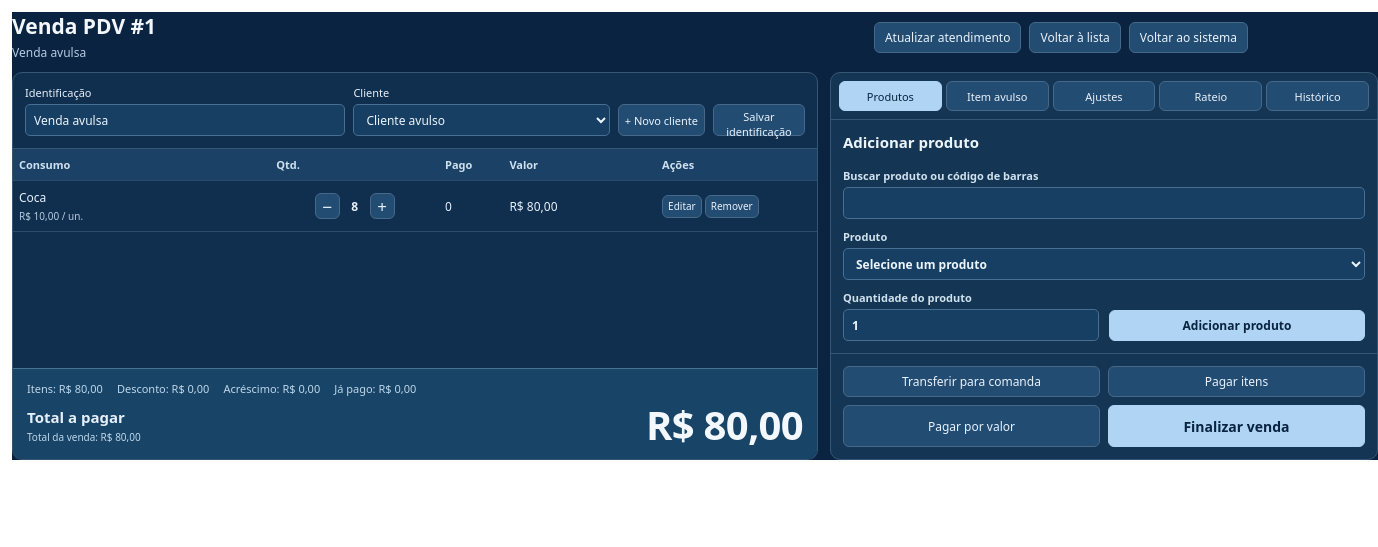
Test case: rejects insufficient cash and preserves the item avulso workflow
Click the button "Item avulso": (997, 96) x1=946 y1=81 x2=1049 y2=111
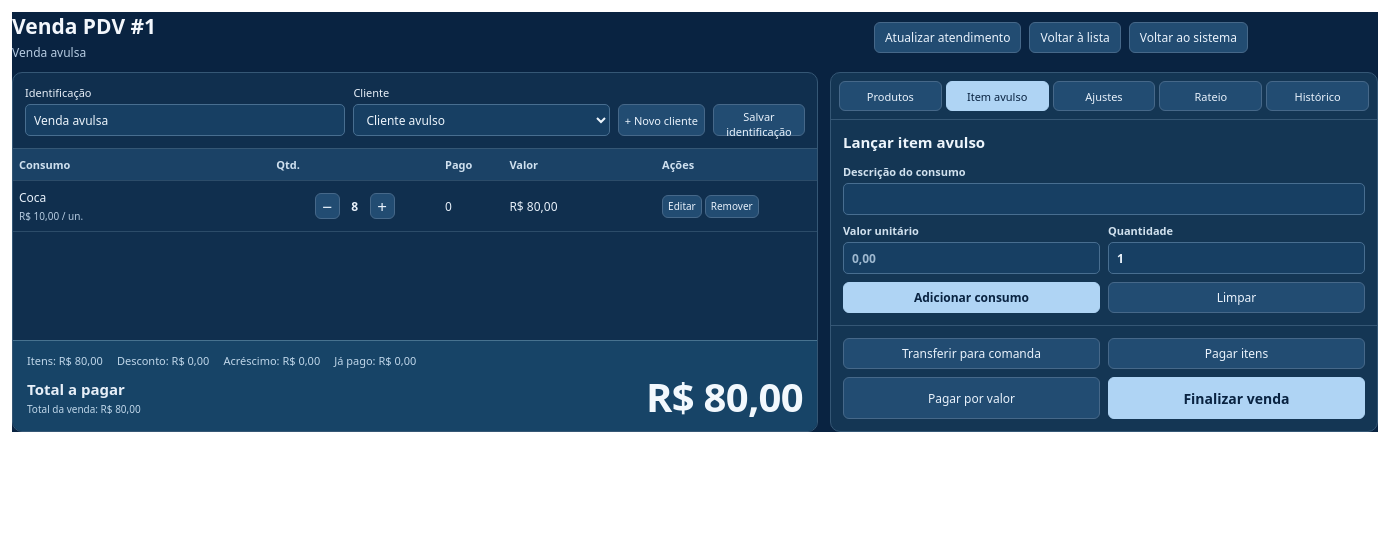
In the field labelled "Descrição do consumo": (1104, 199) x1=843 y1=183 x2=1365 y2=215, type "Serviço"
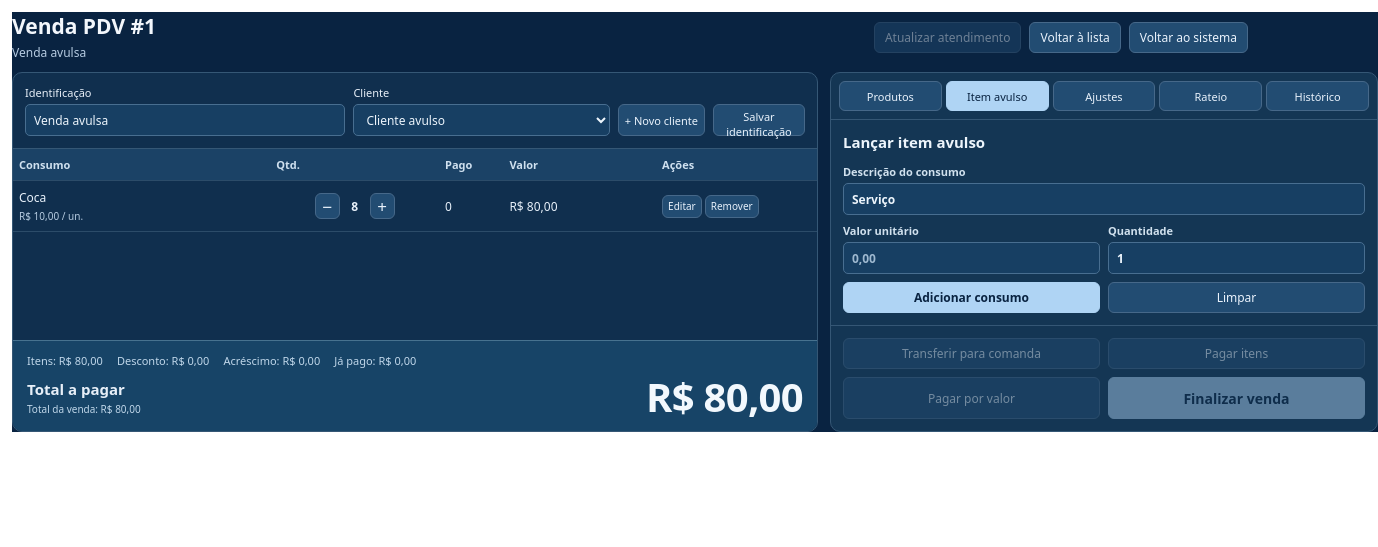
In the field labelled "Valor unitário": (971, 258) x1=843 y1=242 x2=1100 y2=274, type "12,50"
Click the button "Adicionar consumo": (971, 298) x1=843 y1=282 x2=1100 y2=313
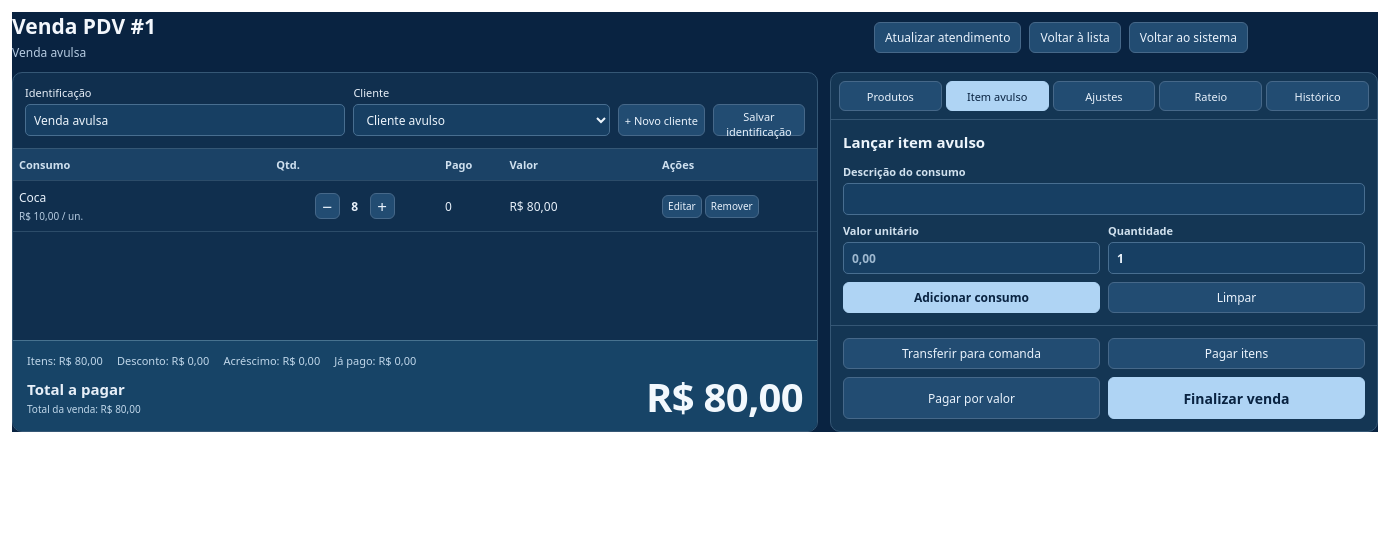
Click the button "Finalizar venda": (1236, 398) x1=1108 y1=377 x2=1365 y2=419
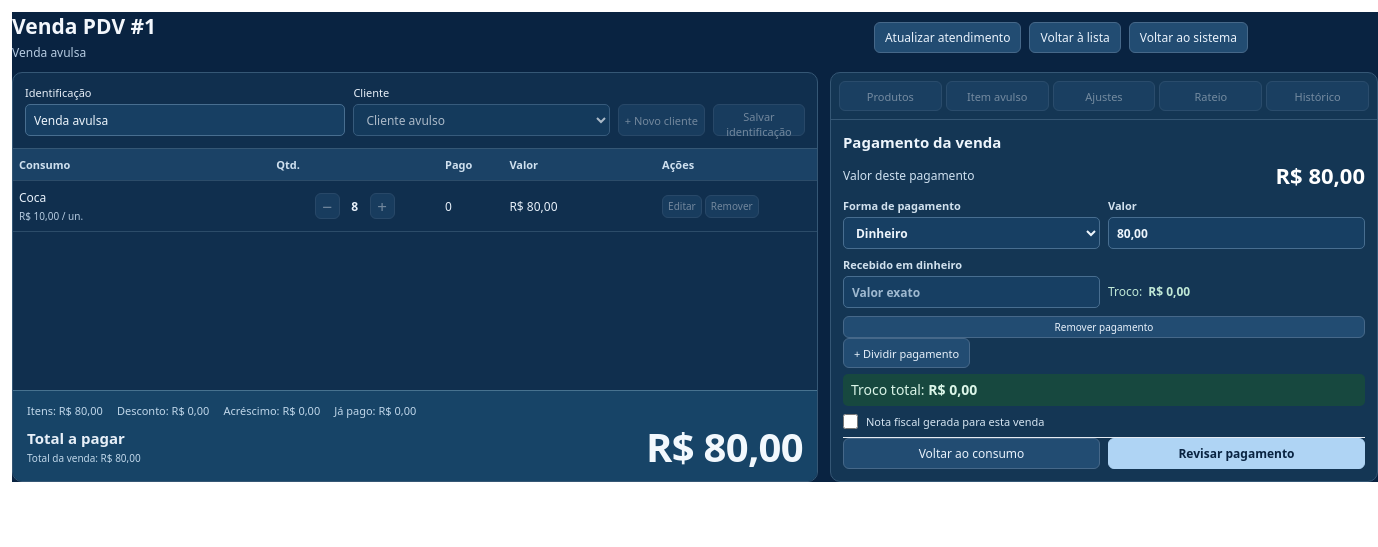
In the field labelled "Recebido em dinheiro": (971, 292) x1=843 y1=276 x2=1100 y2=308, type "70,00"
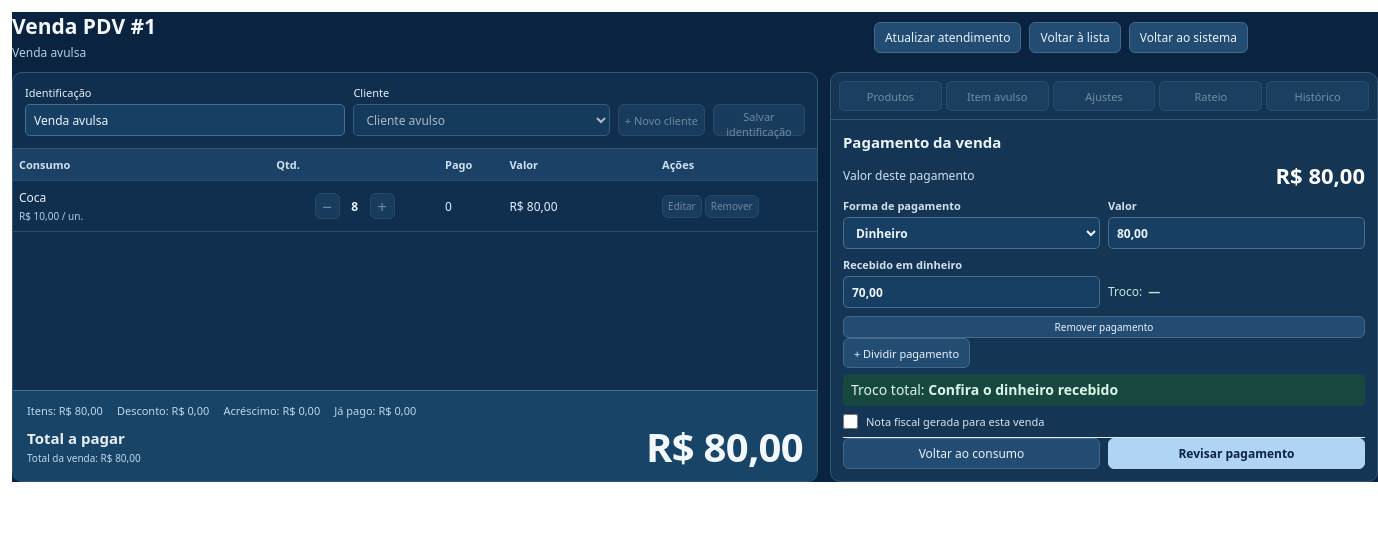
Click the button "Revisar pagamento": (1236, 453) x1=1108 y1=438 x2=1365 y2=469
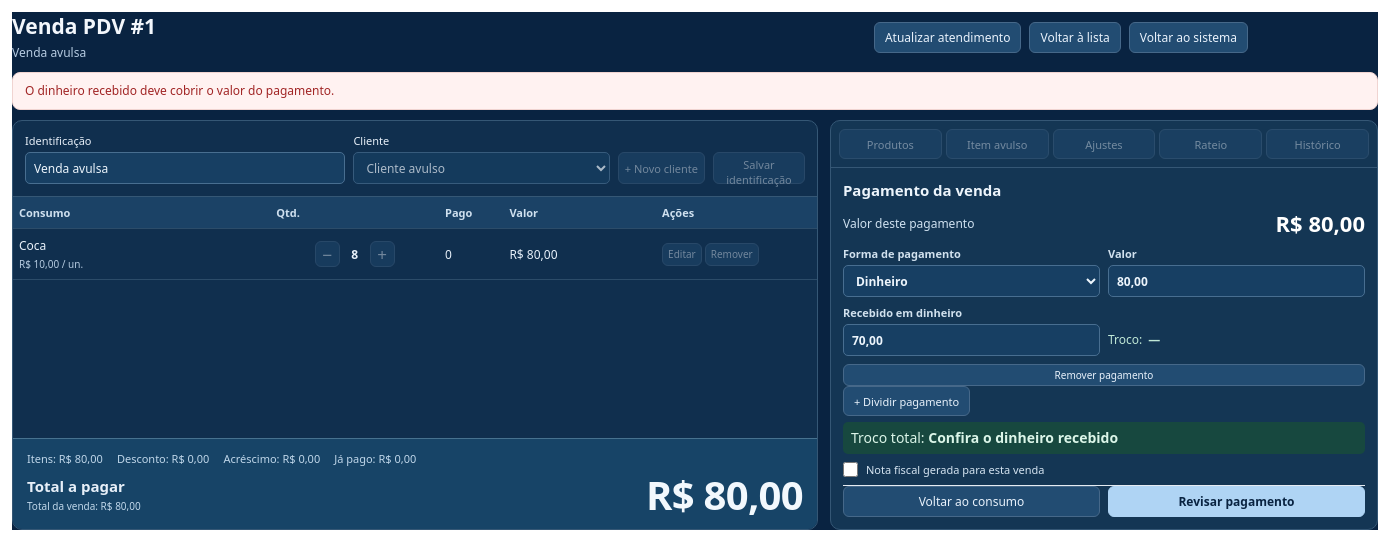
Result: the message shows "O dinheiro recebido deve cobrir" at x1=25 y1=82 x2=334 y2=99
